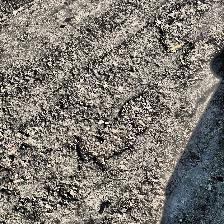pothole: (152, 1, 212, 52), (72, 122, 138, 168), (116, 90, 162, 132), (181, 40, 215, 72)
